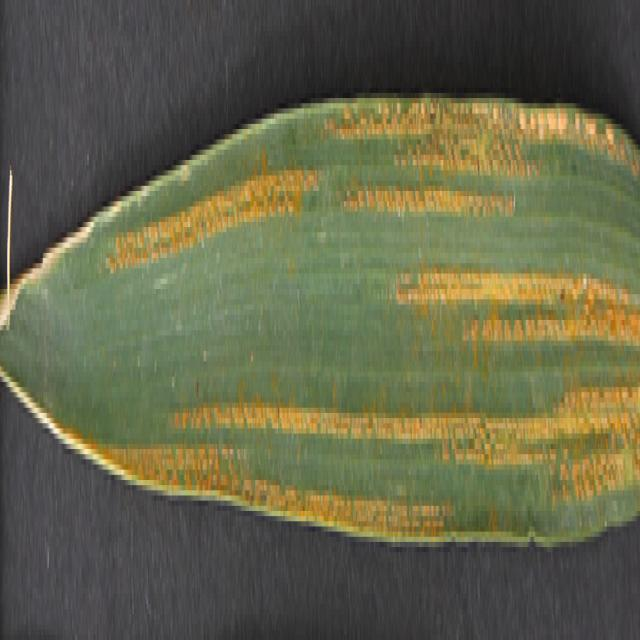leaf rust: (100, 72, 640, 505)
